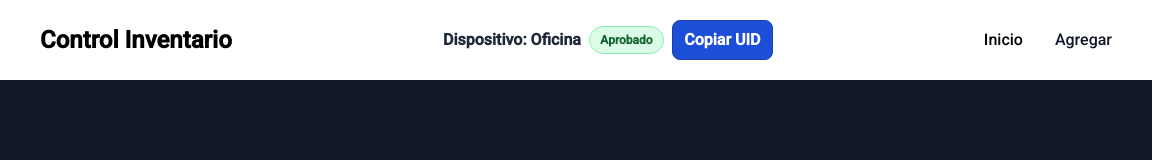
Test: NavbarComponent › announces successful UID copying without rendering the UID
Click the button with test id "copy-uid": coordinates (722, 40) [672,20,773,60]
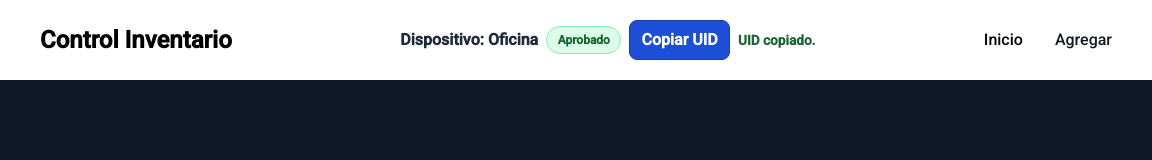
Check: the message with test id "copy-status" reads "UID copiado.", box [738,32,815,48]
